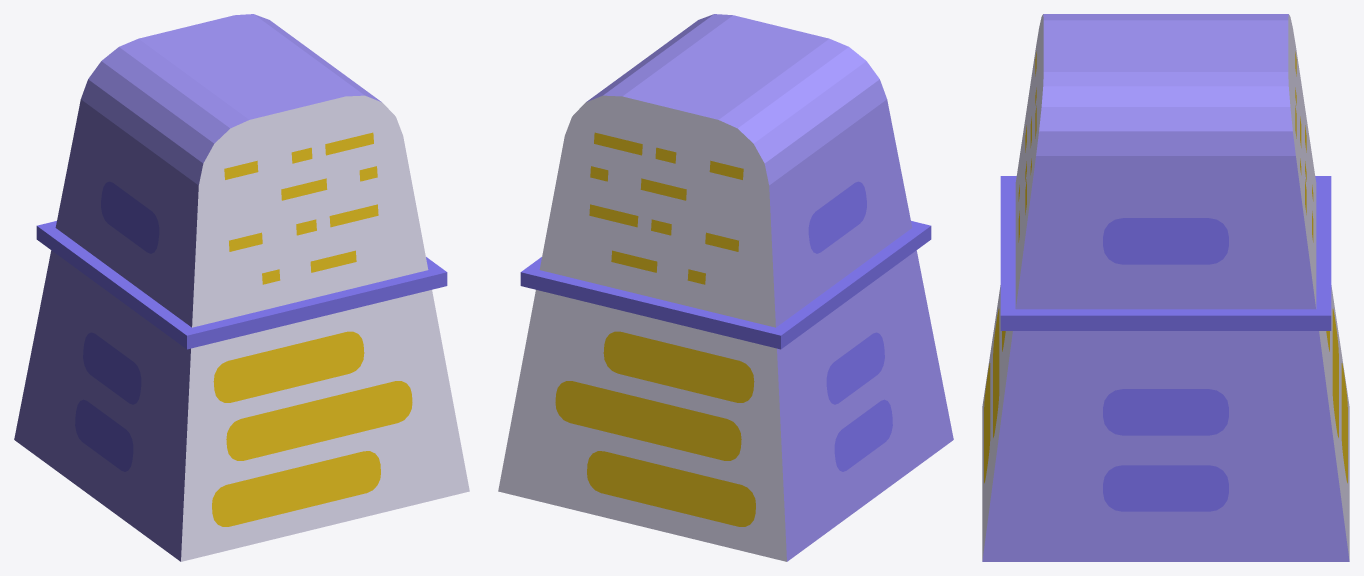
File: Building_031.fbx
The picture shows the model from 3 angles, left to right: view 1: azimuth 30°, elevation 25°; view 2: azimuth 150°, elevation 25°; view 3: azimuth 270°, elevation 25°; orthographic projection. The views are drawn at different scales.
Parts seen in each view (by area): view 1: Building_031; view 2: Building_031; view 3: Building_031.
Boxes of the visible parts, x1,y1,x2,y2 form: Building_031: [14, 14, 469, 561]; Building_031: [498, 14, 953, 561]; Building_031: [982, 14, 1349, 561].
Size of the model in its own units: 20.75 by 27.32 by 20.75.
